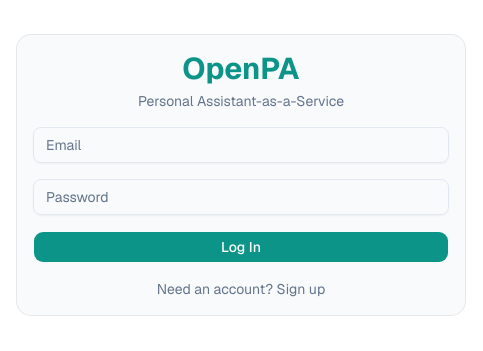
LoginPage › shows error on failed login
Type "a@b.com" into the field with placeholder "Email". click: (241, 145)
box: top-left (33, 127), bottom-right (449, 163)
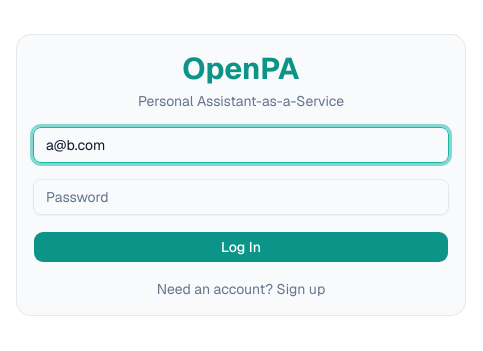
Type "wrong" into the password field with placeholder "Password". click: (241, 197)
box: top-left (33, 179), bottom-right (449, 215)
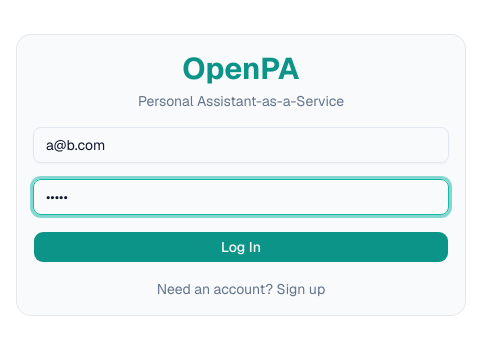
Click the button "Log In". click: (241, 247)
box: top-left (33, 231), bottom-right (449, 263)
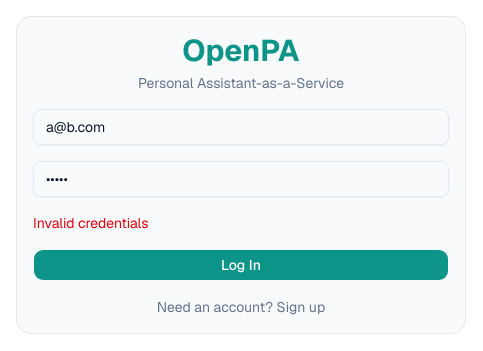
Now the text "Invalid credentials" is shown, box top-left (33, 214), bottom-right (148, 232)
